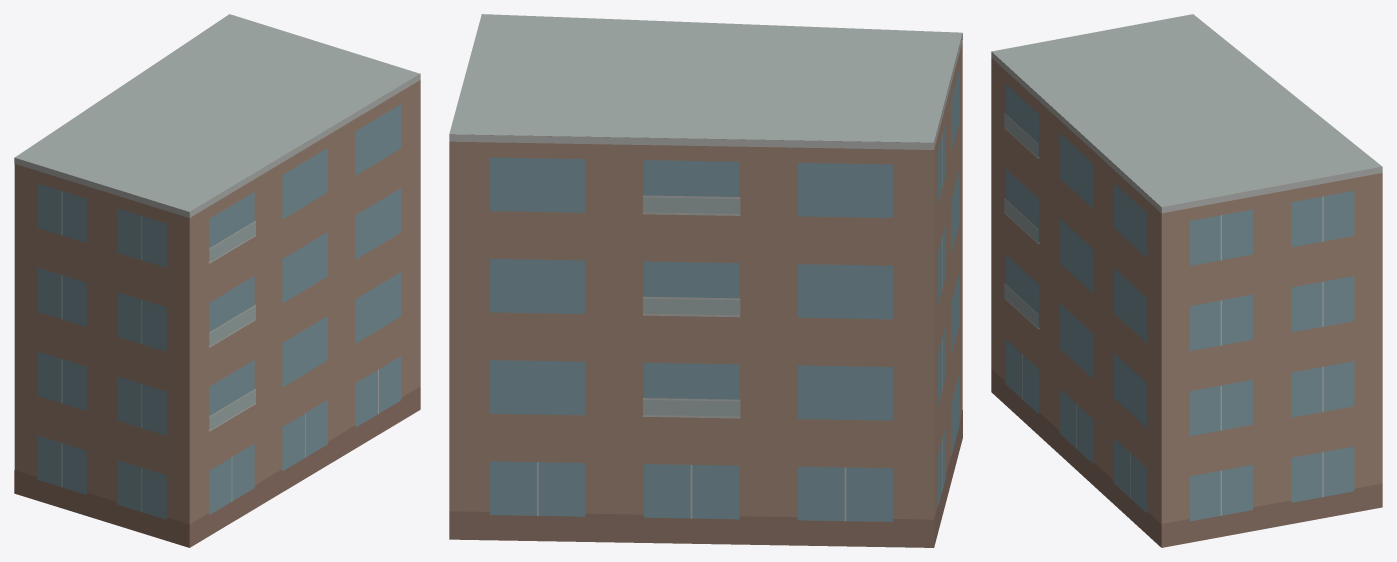
The model's file is survey-upis-32740658.glb.
3 renders of one model, left to right at view 1: azimuth 30°, elevation 25°; view 2: azimuth 150°, elevation 25°; view 3: azimuth 270°, elevation 25°, orthographic. The views are drawn at different scales.
Parts seen in each view (by area): view 1: survey-upis-32740658.tmp; view 2: survey-upis-32740658.tmp; view 3: survey-upis-32740658.tmp.
Part boxes in pixels (x1=…): survey-upis-32740658.tmp: x1=14, y1=14, x2=420, y2=547; survey-upis-32740658.tmp: x1=449, y1=14, x2=962, y2=547; survey-upis-32740658.tmp: x1=991, y1=14, x2=1382, y2=547.
Bounding box in the file's own units: 16.41 × 13.48 × 14.04.
